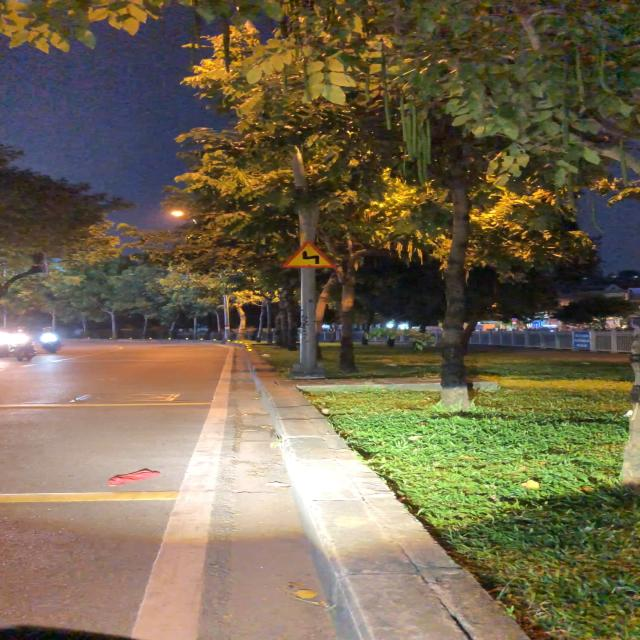Bien bao nhieu cho ngoat nguy hiem lien tiep: (280, 239, 338, 270)
